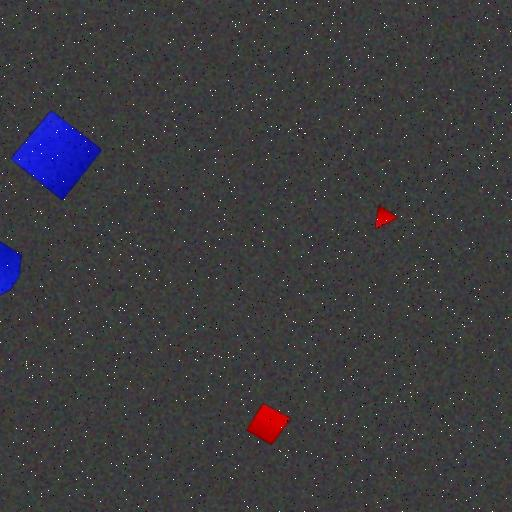BLUE_SQUARE: (10, 110, 102, 202)
RED_SQUARE: (246, 402, 291, 446)
